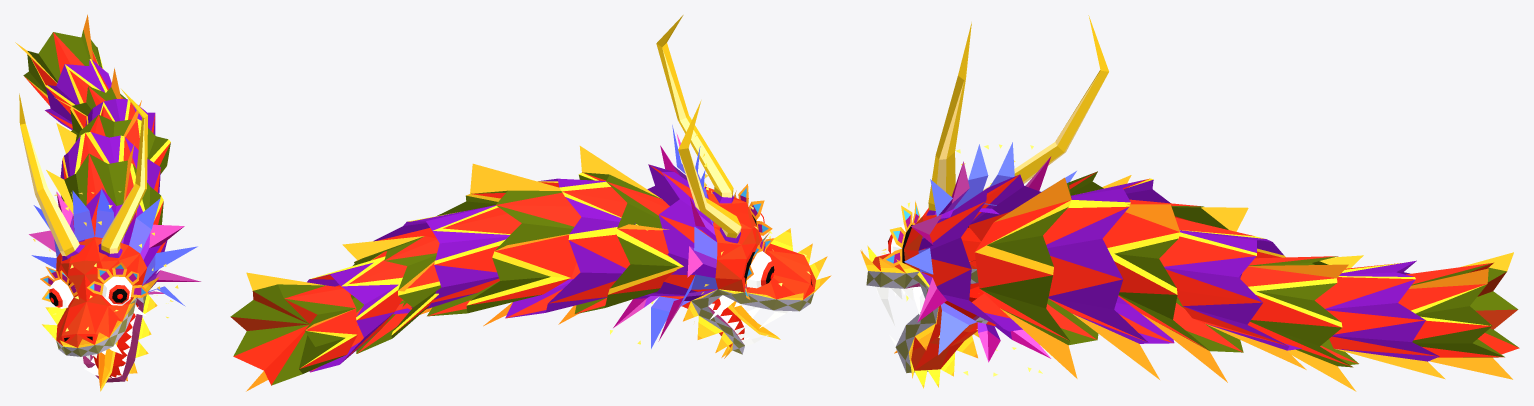
Rendered from event_dragon.gltf.
3 views of the same model, side by side, from view 1: azimuth 30°, elevation 25°; view 2: azimuth 150°, elevation 25°; view 3: azimuth 270°, elevation 25° (orthographic). The views are drawn at different scales.
Visible parts, largest first — view 1: dragon_fixed; view 2: dragon_fixed; view 3: dragon_fixed.
Part boxes in pixels (<box>): dragon_fixed: <box>15,14,200,391</box>; dragon_fixed: <box>230,15,831,391</box>; dragon_fixed: <box>860,15,1519,391</box>.
Bounding box in the file's own units: 3 × 3.09 × 4.88.
Materials: 1 (1 with a texture image).
